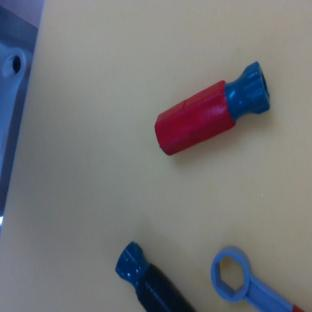part_2_bad: (106, 237, 195, 312)
part_2_good: (145, 61, 279, 160)
part_3_good: (199, 241, 304, 312)
